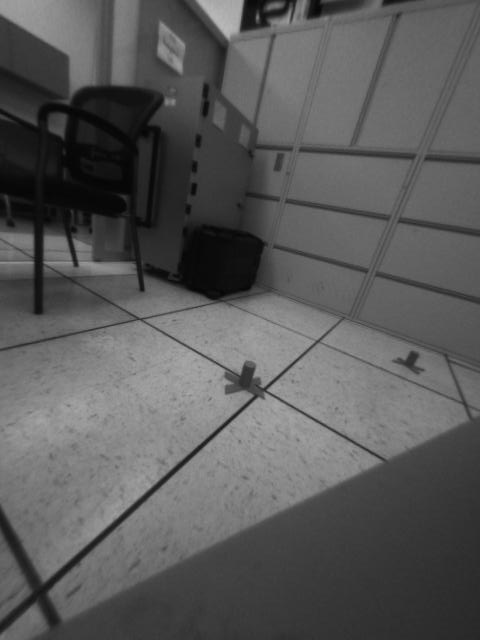X: (218, 358, 271, 401), (390, 345, 427, 376)
